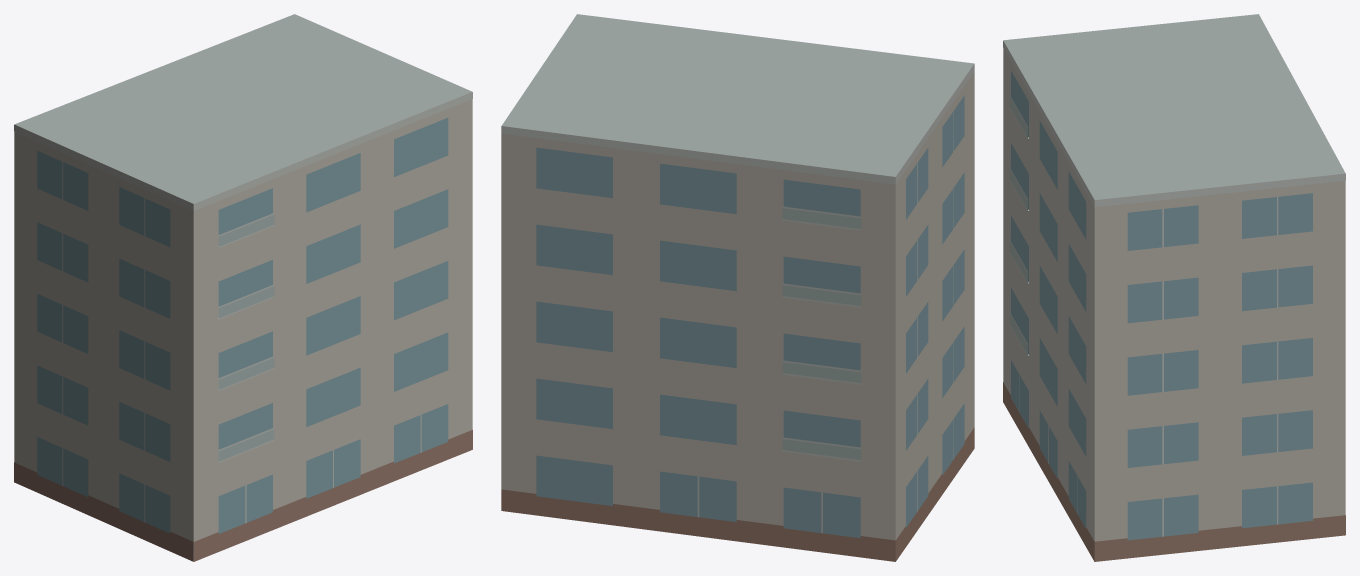
The model's file is survey-upis-33016015.glb.
The picture shows the model from 3 angles, left to right: view 1: azimuth 30°, elevation 25°; view 2: azimuth 150°, elevation 25°; view 3: azimuth 270°, elevation 25°; orthographic projection. The views are drawn at different scales.
Visible parts, largest first — view 1: survey-upis-33016015.tmp; view 2: survey-upis-33016015.tmp; view 3: survey-upis-33016015.tmp.
Part boxes in pixels (bbox=[...]): survey-upis-33016015.tmp: bbox=[14, 14, 472, 561]; survey-upis-33016015.tmp: bbox=[501, 14, 974, 561]; survey-upis-33016015.tmp: bbox=[1003, 14, 1345, 561].
Bounding box in the file's own units: 13.64 × 12.35 × 10.61.
